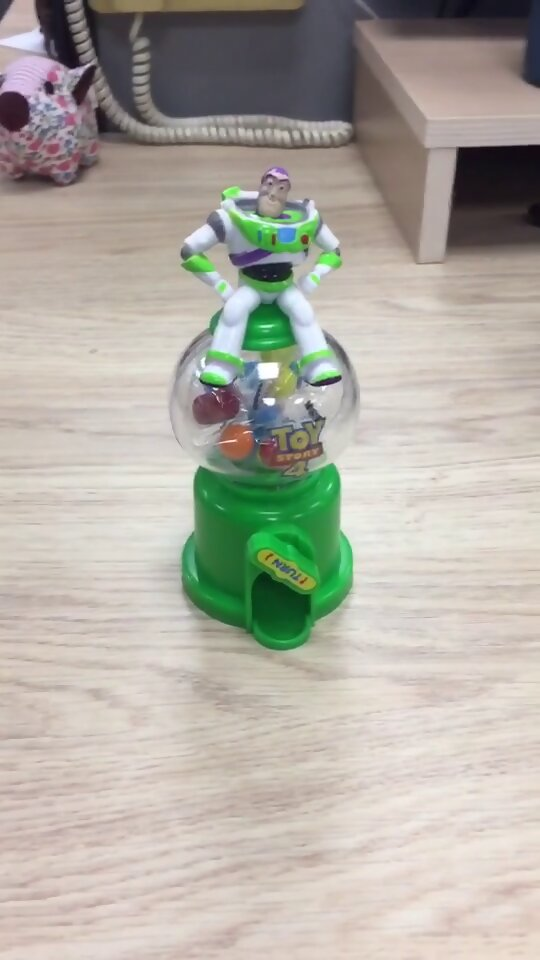buzz: (166, 161, 366, 659)
